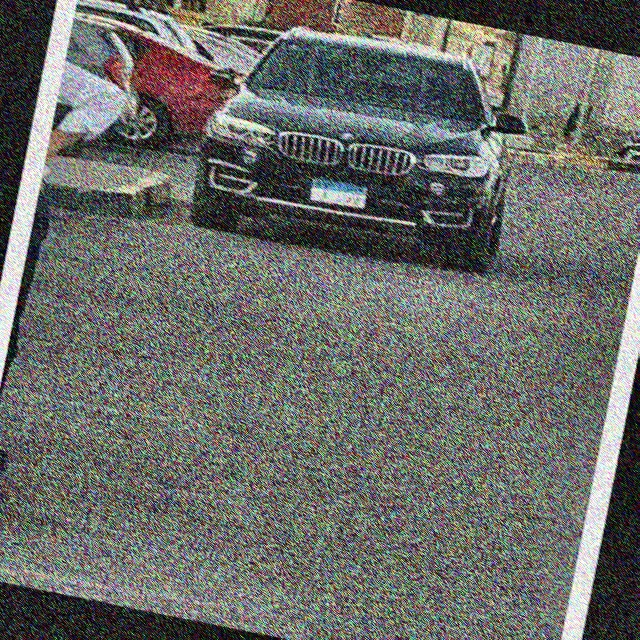License Plate: (305, 175, 372, 214)
